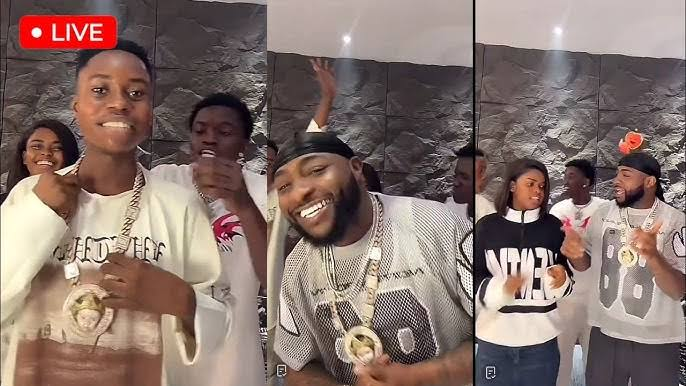person: (1, 38, 684, 384), (1, 38, 222, 384), (267, 129, 474, 384), (148, 91, 270, 384), (557, 149, 684, 384), (472, 156, 576, 385), (547, 157, 610, 384), (5, 117, 79, 194), (548, 157, 610, 240), (441, 143, 497, 224)
